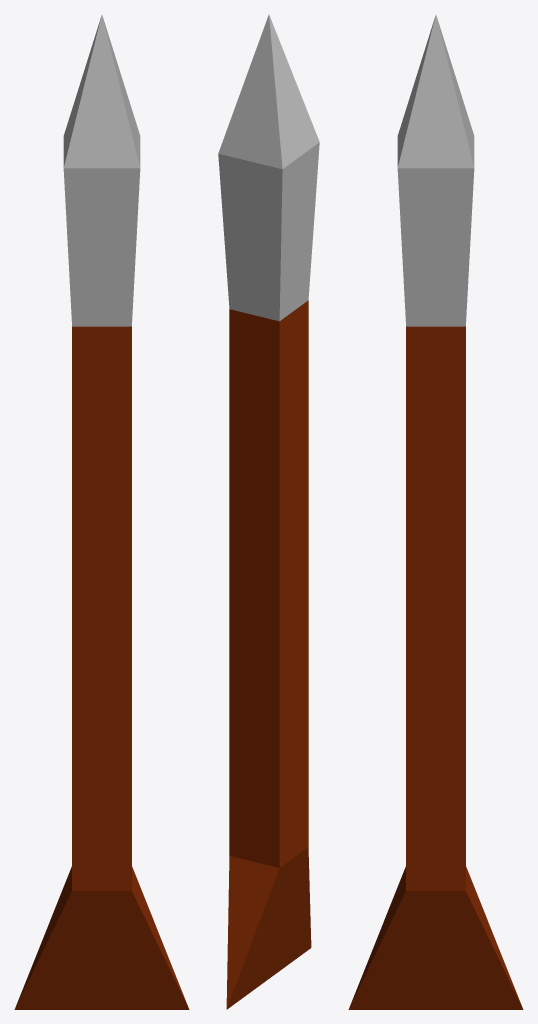
File: bolt.obj
The picture shows the model from 3 angles, left to right: view 1: azimuth 90°, elevation 25°; view 2: azimuth 150°, elevation 25°; view 3: azimuth 270°, elevation 25°; orthographic projection. The views are drawn at different scales.
Parts seen in each view (by area): view 1: bolt; view 2: bolt; view 3: bolt.
Boxes of the visible parts, bbox=[...] form: bolt: bbox=[14, 15, 189, 1009]; bolt: bbox=[218, 14, 319, 1009]; bolt: bbox=[348, 15, 523, 1009].
Size of the model in its own units: 0.0133 by 0.1908 by 0.0304.
